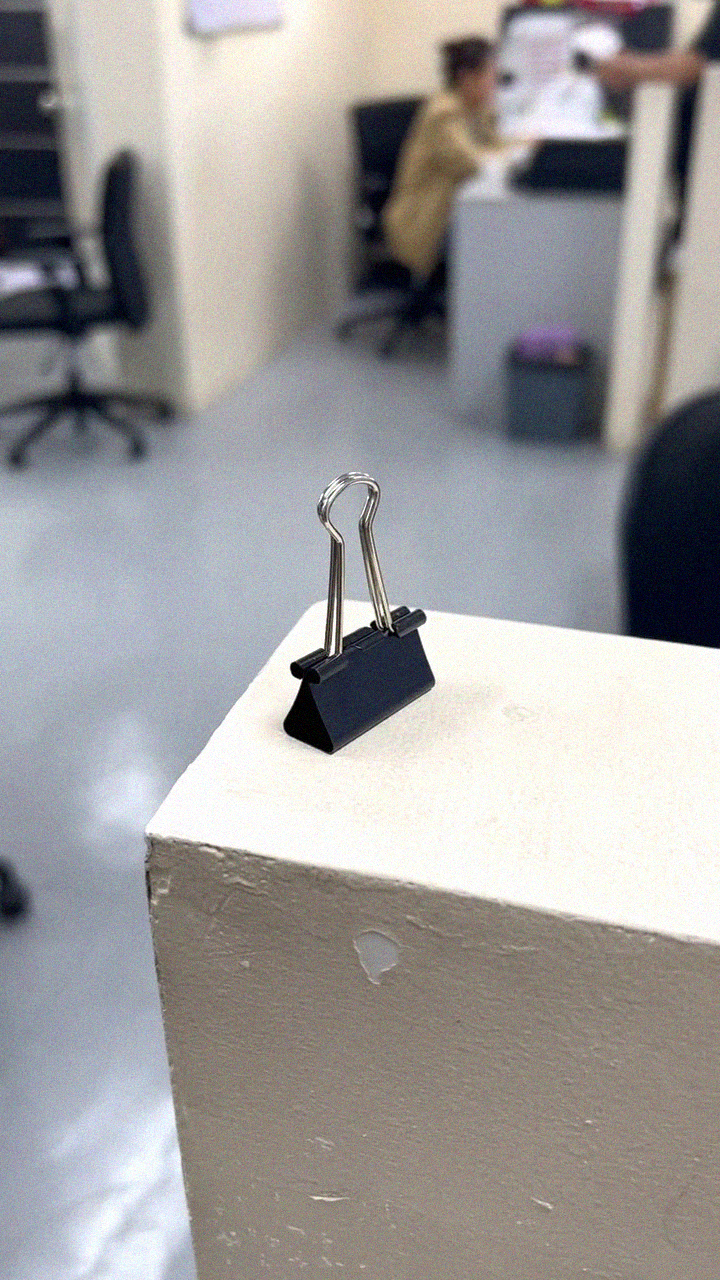kep_giay: (274, 469, 447, 759)
